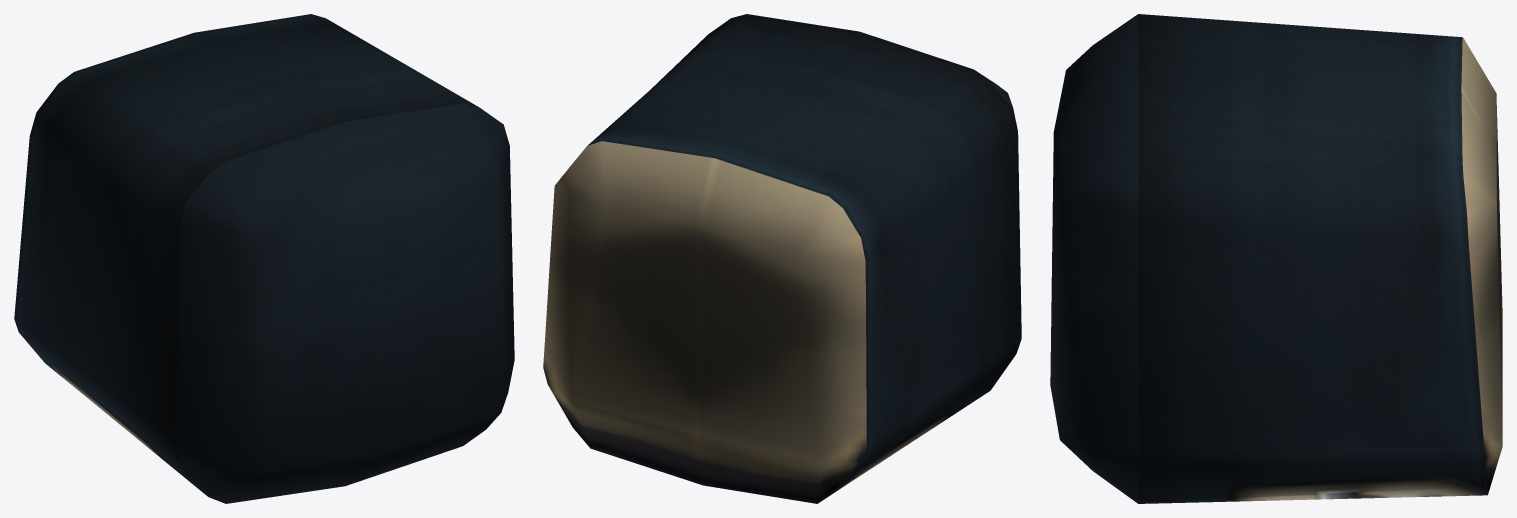
File: Avatar_Swat_H_01_Head_5_53456daa__Avatar_Swat_A_04c623a2_c1f257.obj
3 renders of one model, left to right at view 1: azimuth 30°, elevation 25°; view 2: azimuth 150°, elevation 25°; view 3: azimuth 270°, elevation 25°, orthographic. The views are drawn at different scales.
Size of the model in its own units: 0.6857 by 0.7049 by 0.7416.
1 material, 1 textured.
